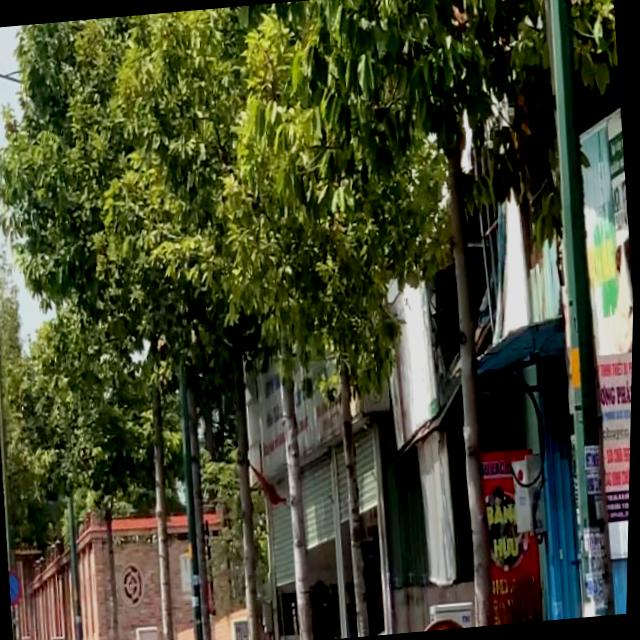Cam do xe: (9, 565, 29, 609)
